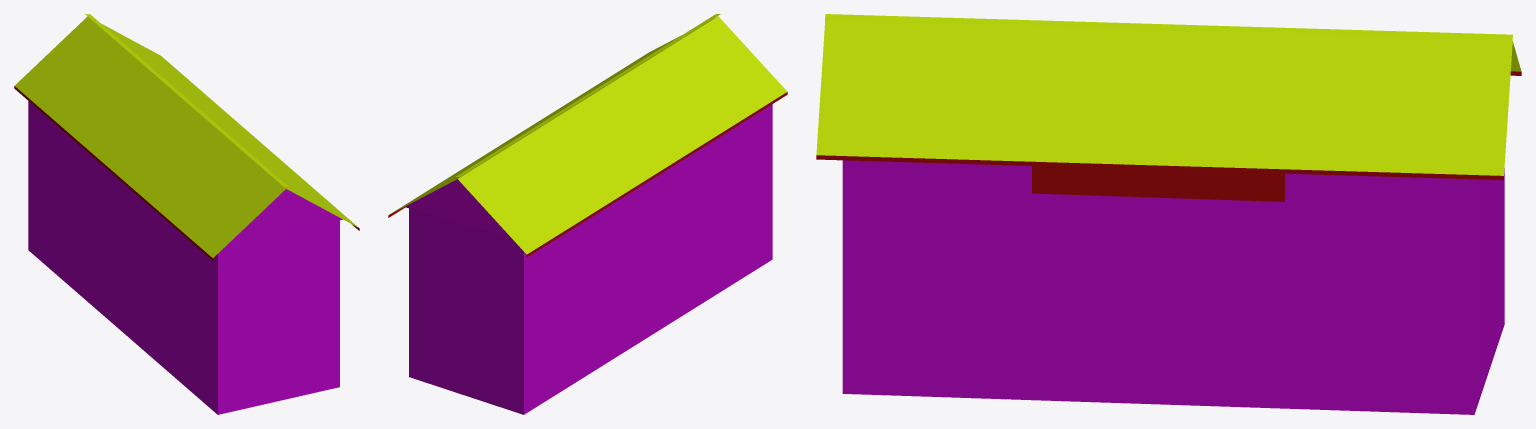
File: bgj_251.glb
3 views of the same model, side by side, from view 1: azimuth 30°, elevation 25°; view 2: azimuth 150°, elevation 25°; view 3: azimuth 270°, elevation 25° (orthographic). The views are drawn at different scales.
Parts seen in each view (by area): view 1: bgj_251; view 2: bgj_251; view 3: bgj_251.
Part boxes in pixels (x1,y1,x2,y2): bgj_251: (14,14,359,414); bgj_251: (388,14,787,414); bgj_251: (816,14,1521,414).
Bounding box in the file's own units: 7.43 × 9.26 × 17.72.
